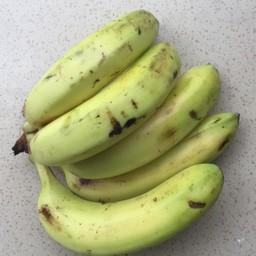Good_banana: (20, 3, 241, 256), (25, 3, 177, 168), (27, 168, 225, 256)
